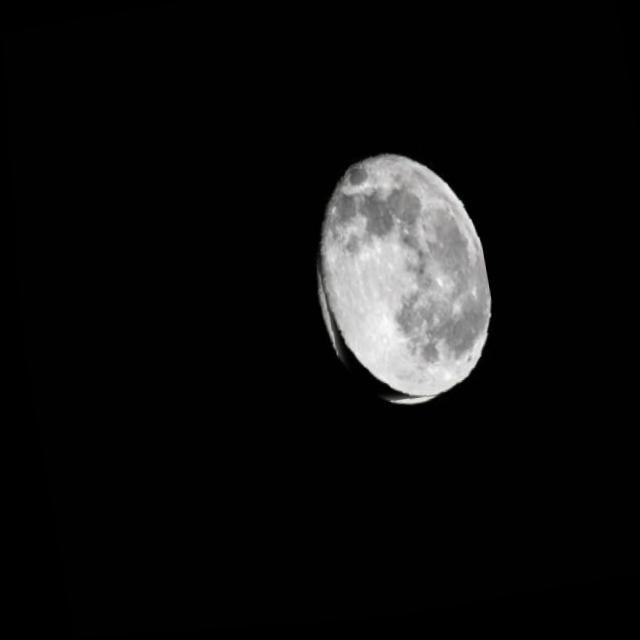moon: (289, 136, 501, 423)
